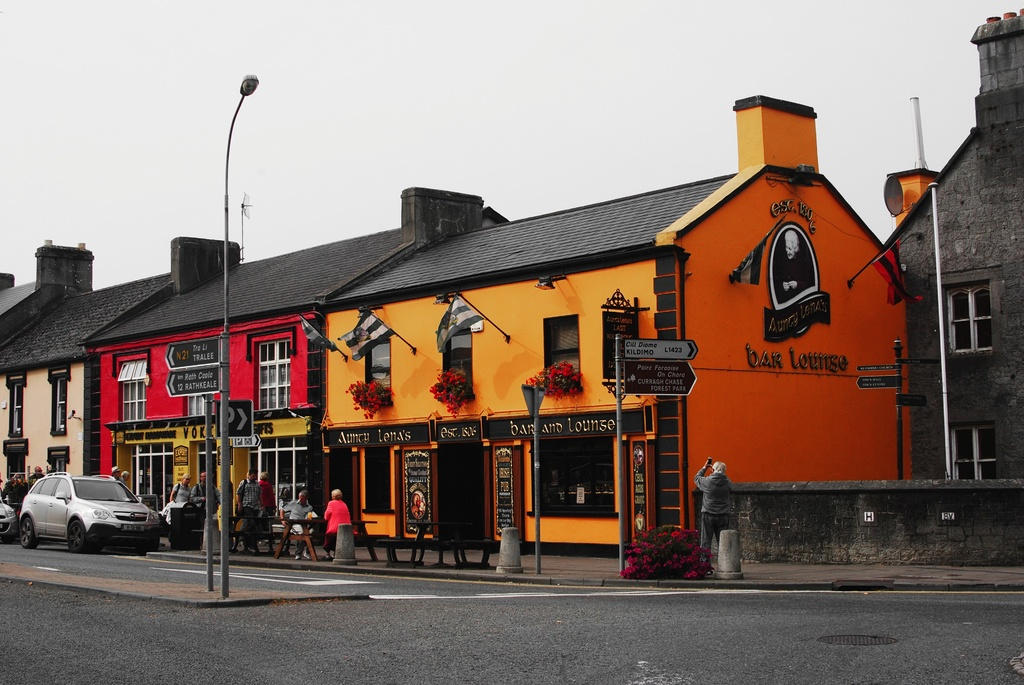Car: (15, 473, 165, 549), (0, 498, 19, 537)
